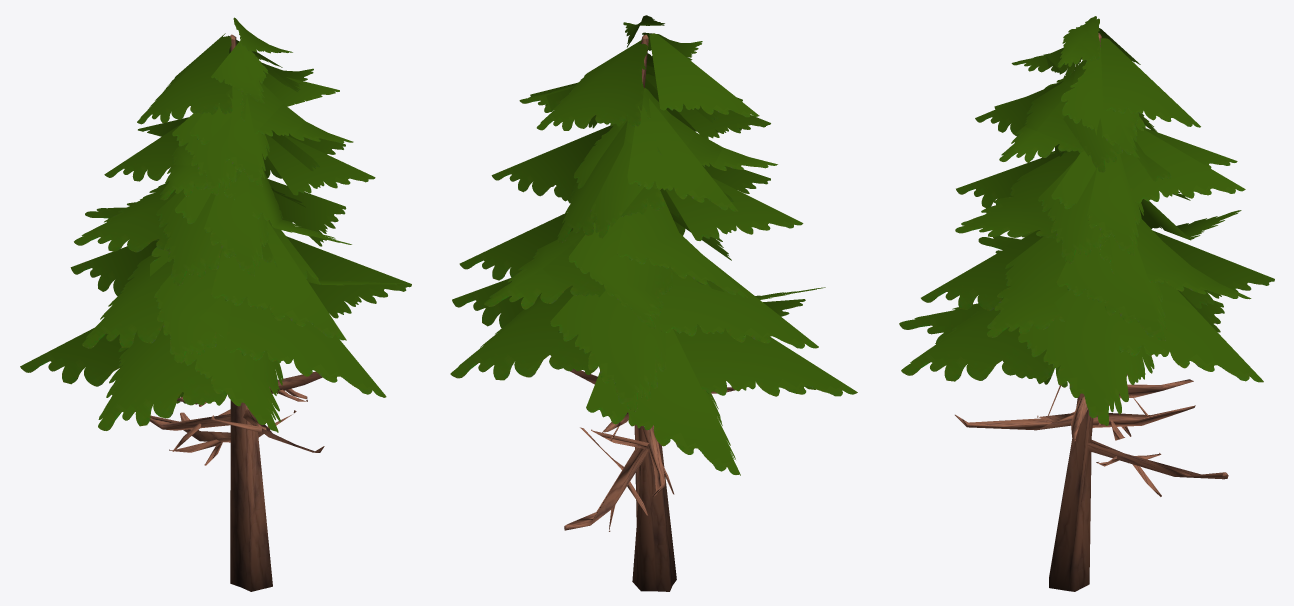
Rendered from tree-life-1-sapling.glb.
The picture shows the model from 3 angles, left to right: view 1: azimuth 30°, elevation 25°; view 2: azimuth 150°, elevation 25°; view 3: azimuth 270°, elevation 25°; orthographic projection. The views are drawn at different scales.
Visible parts, largest first — view 1: Pine_1; view 2: Pine_1; view 3: Pine_1.
Part boxes in pixels (x1,y1,x2,y2): Pine_1: (20, 17, 411, 591); Pine_1: (450, 15, 857, 591); Pine_1: (899, 16, 1274, 591).
Size of the model in its own units: 0.4392 by 0.65 by 0.4032.
Materials: 2 (2 with a texture image).
